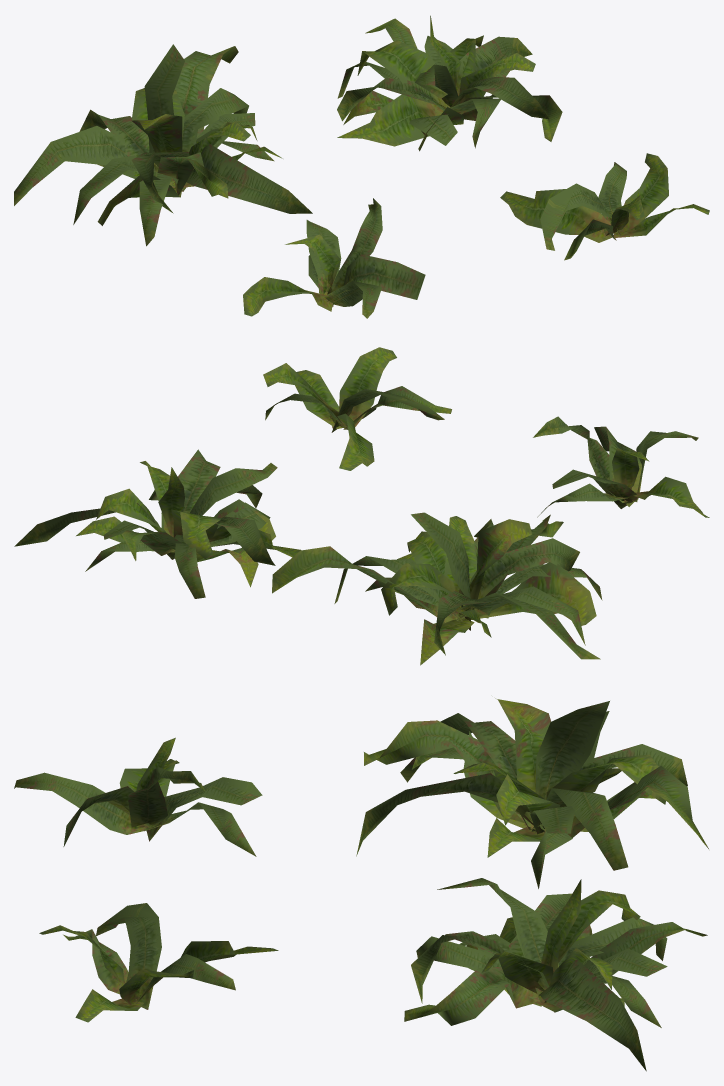
File: fern_02.glb
The picture shows the model from 3 angles, top to bottom: view 1: azimuth 30°, elevation 25°; view 2: azimuth 150°, elevation 25°; view 3: azimuth 270°, elevation 25°; orthographic projection. The views are drawn at different scales.
Parts seen in each view (by area): view 1: fern_02_b, fern_02_c, fern_02_d, fern_02_a; view 2: fern_02_b, fern_02_c, fern_02_d, fern_02_a; view 3: fern_02_b, fern_02_c, fern_02_a, fern_02_d.
Part boxes in pixels (<box>): fern_02_b: <box>14,44,312,246</box>; fern_02_c: <box>337,15,562,151</box>; fern_02_d: <box>500,153,709,260</box>; fern_02_a: <box>243,198,425,318</box>; fern_02_b: <box>272,512,602,665</box>; fern_02_c: <box>14,449,300,598</box>; fern_02_d: <box>263,347,451,470</box>; fern_02_a: <box>533,416,709,517</box>; fern_02_b: <box>356,698,708,888</box>; fern_02_c: <box>404,878,707,1071</box>; fern_02_a: <box>14,737,262,856</box>; fern_02_d: <box>39,903,278,1022</box>.
Bounding box in the file's own units: 1.96 × 0.4246 × 1.72.
Materials: 1 (1 with a texture image).
